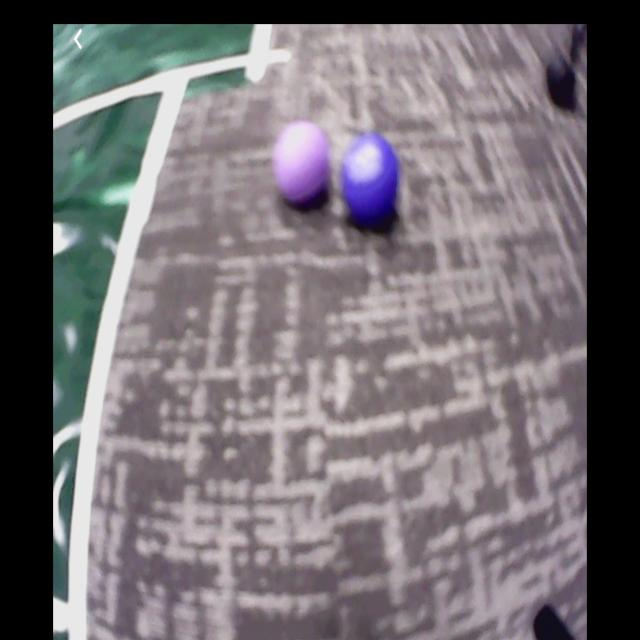ball: (341, 131, 399, 227), (274, 120, 330, 207)
